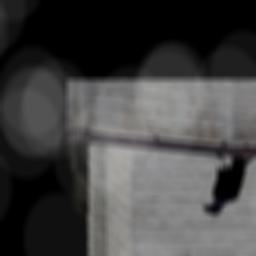Crow: (202, 143, 256, 217)
